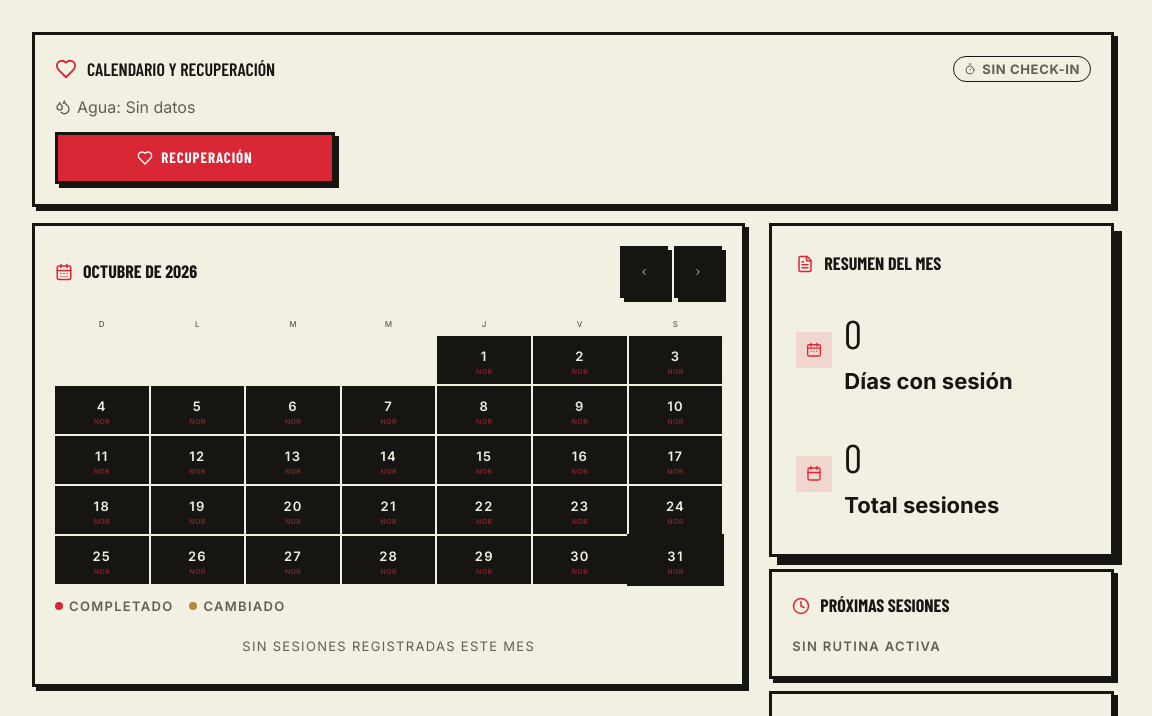
it: FASE 1.6 — Calendario lee Recovery solo desde Dexie › día completo: ejercicios, volumen, cumplimiento, comidas y sueño
Expected: the heading "Calendario y recuperación" is shown, [87, 55, 275, 83]
Step 1. Click the button "31 Nor" → (676, 560), box [629, 536, 722, 584]
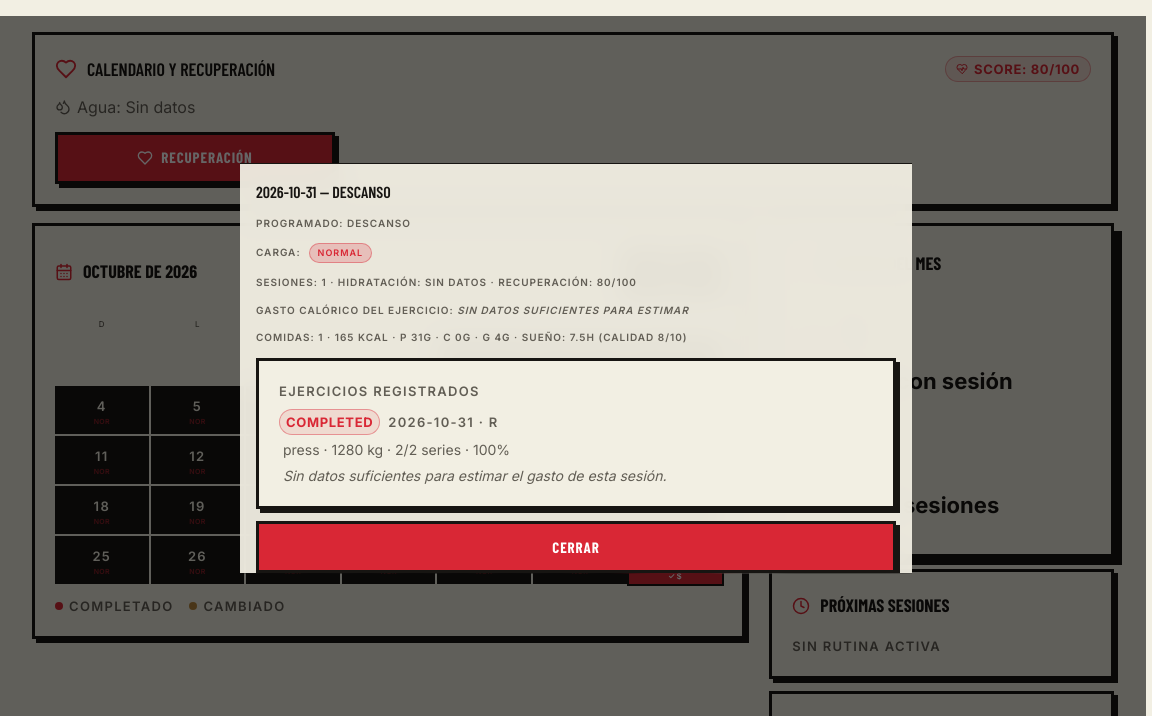
Expected: the text "· 1280 kg" is shown, [320, 441, 383, 458]
Expected: the text "· 2/2 series" is shown, [383, 441, 461, 458]
Expected: the text "· 100%" is shown, [461, 441, 510, 458]
